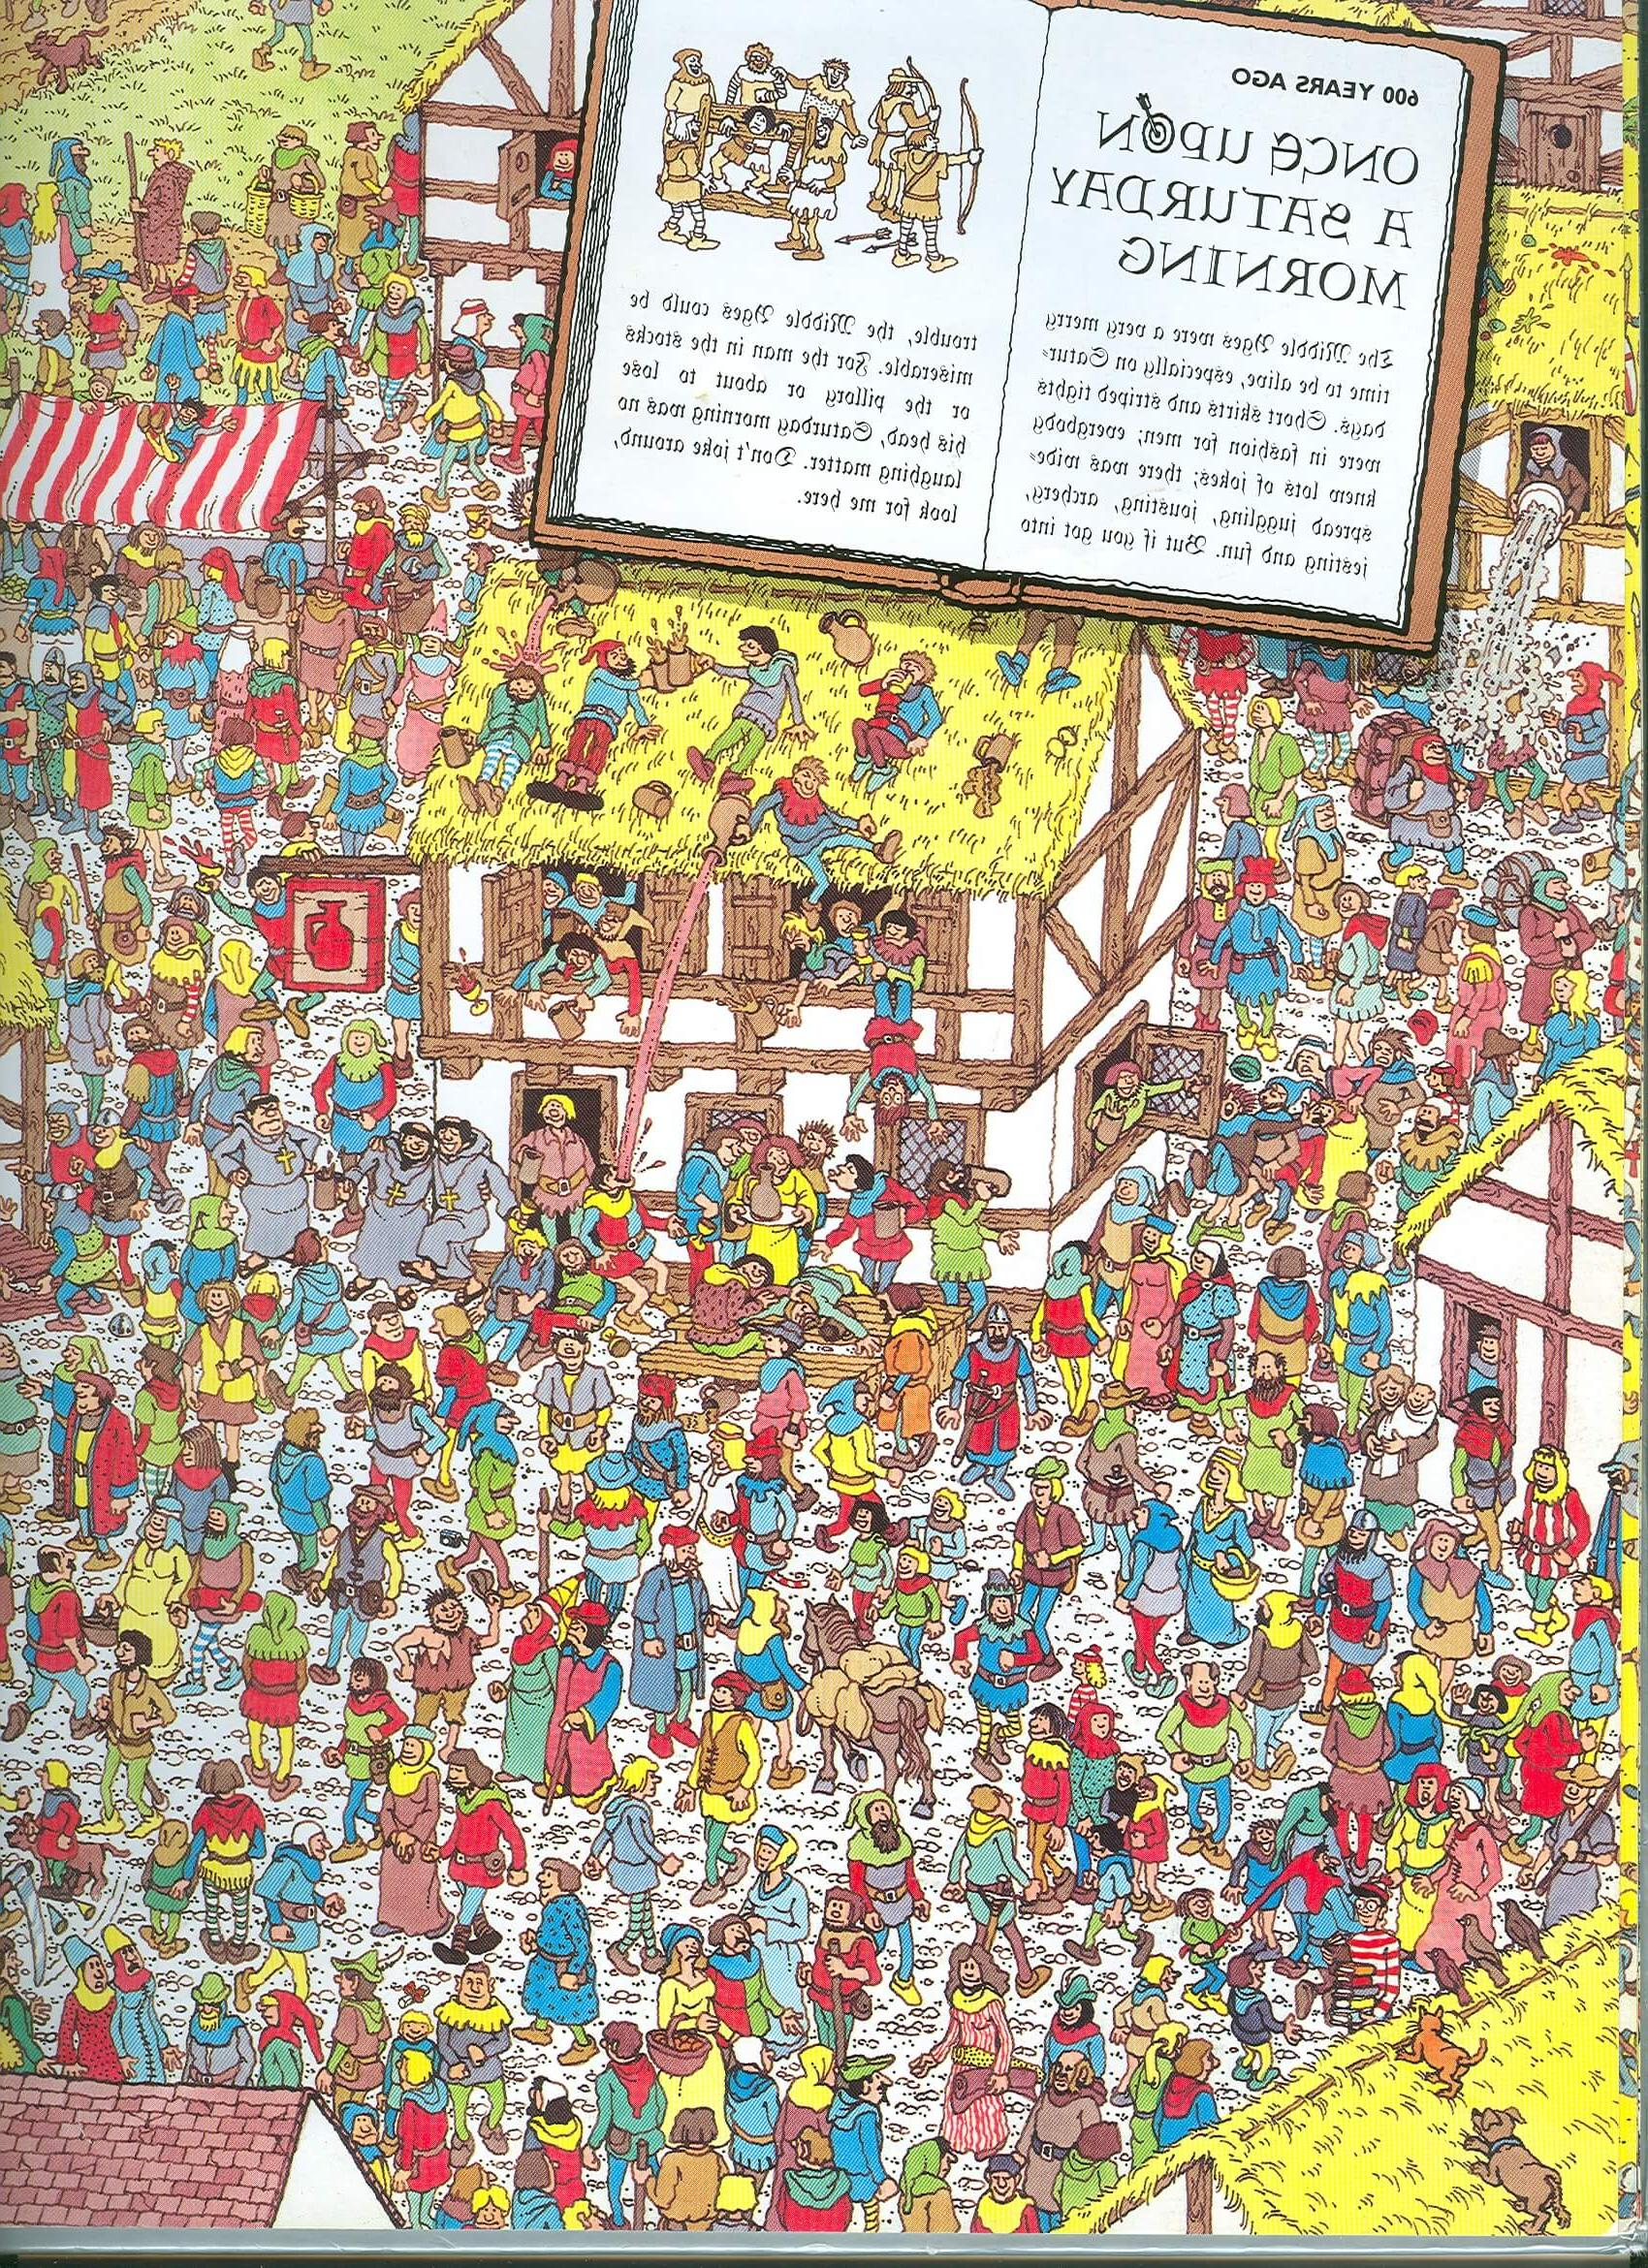waldos: (1317, 1870, 1403, 2034)
